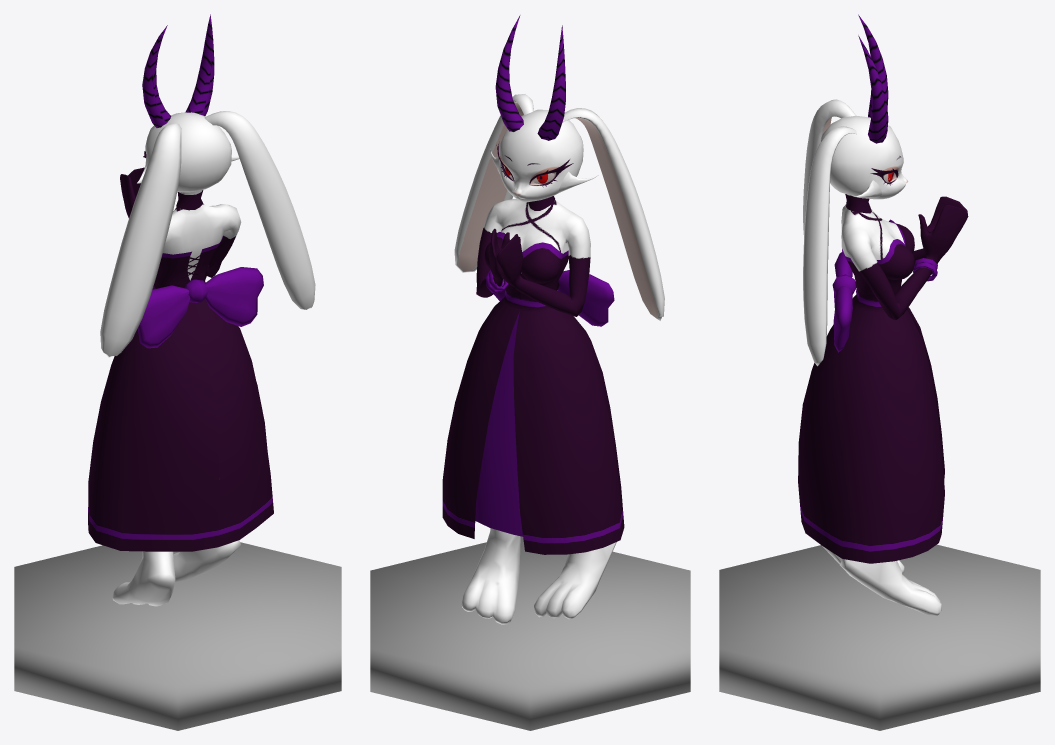
The model's file is usagi_Believer 1.fbx.
3 renders of one model, left to right at view 1: azimuth 30°, elevation 25°; view 2: azimuth 150°, elevation 25°; view 3: azimuth 270°, elevation 25°, orthographic. The views are drawn at different scales.
Visible parts, largest first — view 1: usagi_Believer; view 2: usagi_Believer; view 3: usagi_Believer.
Part boxes in pixels (x1,y1,x2,y2): usagi_Believer: (14,14,341,730); usagi_Believer: (370,15,690,730); usagi_Believer: (719,14,1040,730).
Size of the model in its own units: 1004 by 1876 by 869.
